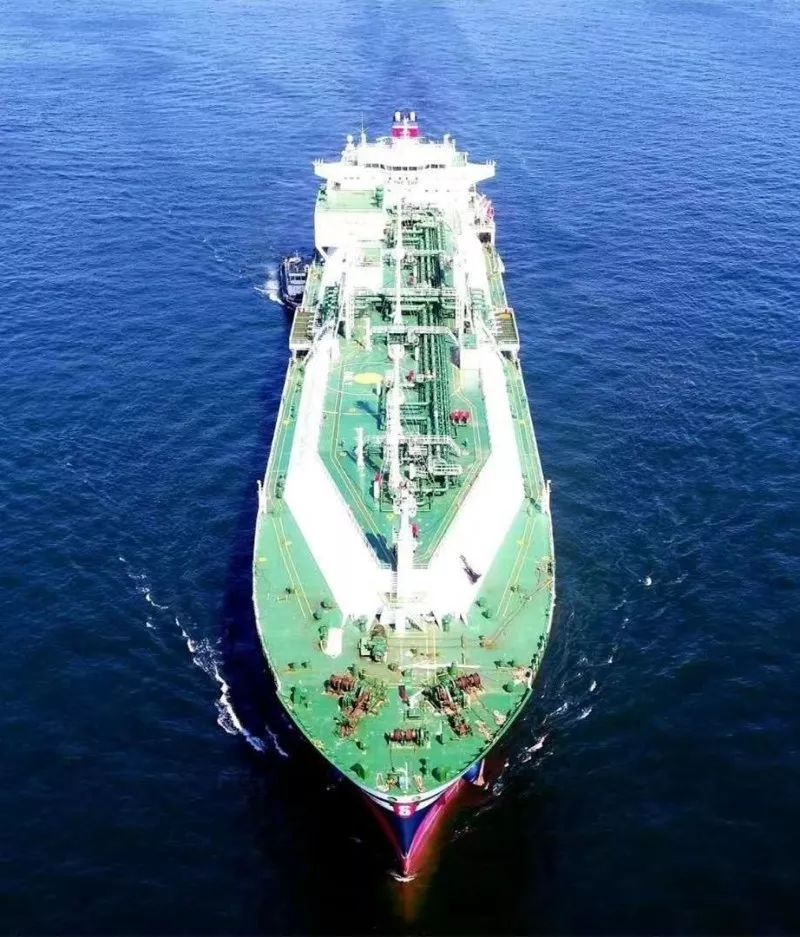Cargoship: (238, 90, 565, 874)
otherboat: (265, 243, 314, 309)
